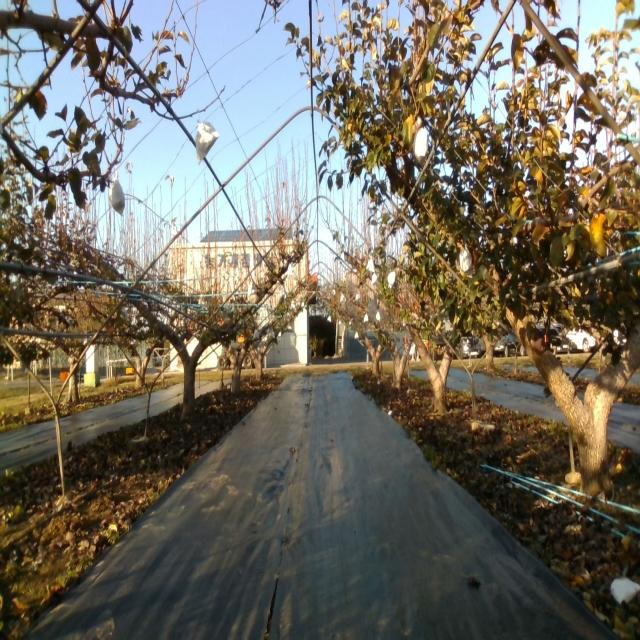pearbags: (194, 118, 219, 165), (109, 167, 126, 215), (414, 125, 429, 163), (459, 247, 472, 274)
